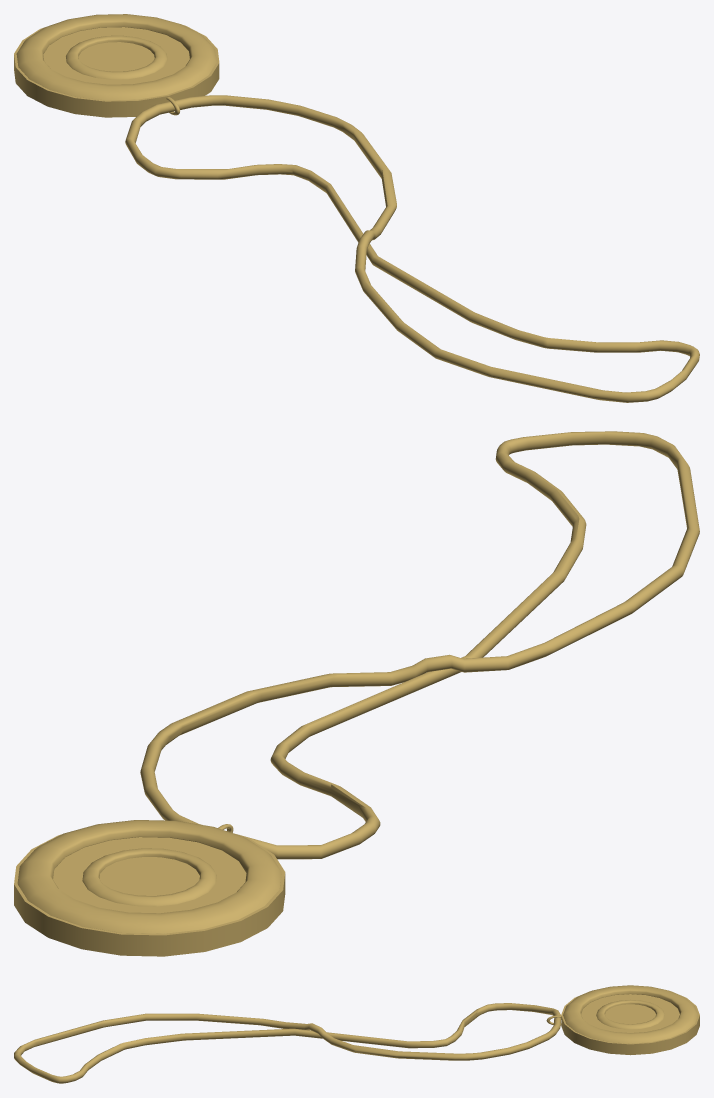
The model's file is necklace_FBX.fbx.
3 views of the same model, one above another, from view 1: azimuth 30°, elevation 25°; view 2: azimuth 150°, elevation 25°; view 3: azimuth 270°, elevation 25° (orthographic). The views are drawn at different scales.
Visible parts, largest first — view 1: pCylinder4; view 2: pCylinder4; view 3: pCylinder4.
Boxes of the visible parts, x1=… form: pCylinder4: x1=14, y1=14, x2=699, y2=402; pCylinder4: x1=14, y1=431, x2=699, y2=956; pCylinder4: x1=14, y1=985, x2=699, y2=1083.
Size of the model in its own units: 1.14 by 0.1472 by 4.09.
Materials: 1 (1 with a texture image).
